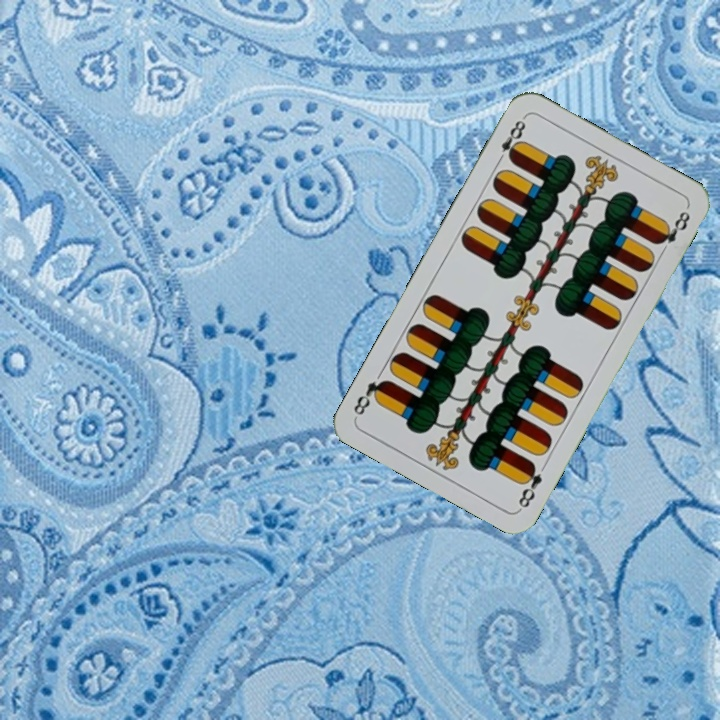E8: (492, 113, 529, 167), (514, 458, 545, 512)
